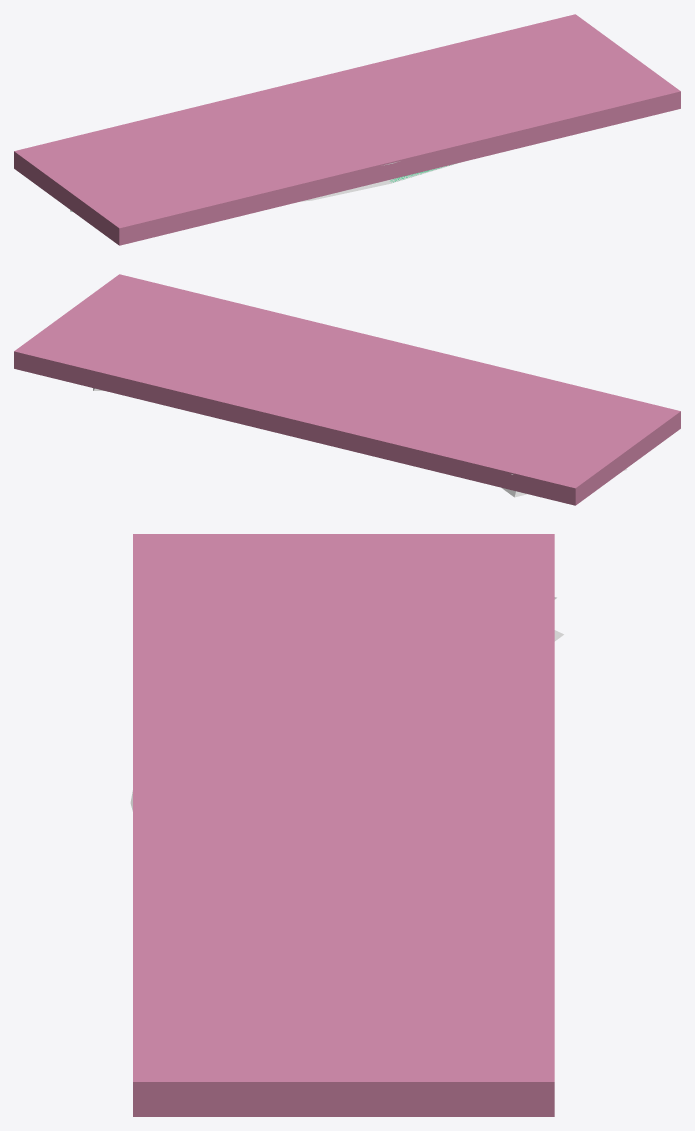
File: race_curb_01_45a.dae
The picture shows the model from 3 angles, top to bottom: view 1: azimuth 30°, elevation 25°; view 2: azimuth 150°, elevation 25°; view 3: azimuth 270°, elevation 25°; orthographic projection. The views are drawn at different scales.
Visible parts, largest first — view 1: Untitled, ind_bld_a240; view 2: Untitled; view 3: Untitled.
Part boxes in pixels (x1,y1,x2,y2): Untitled: (14,14,680,245); ind_bld_a240: (70,162,459,211); Untitled: (14,274,680,505); Untitled: (133,534,554,1116).
Size of the model in its own units: 7.94 by 2.66 by 0.2921.
